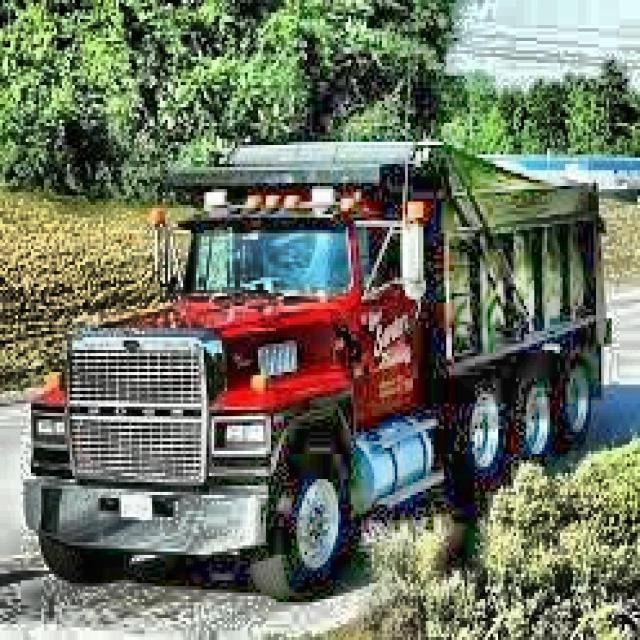dump_truck: (24, 134, 602, 592)
